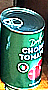tomatoes: (1, 7, 45, 90)
